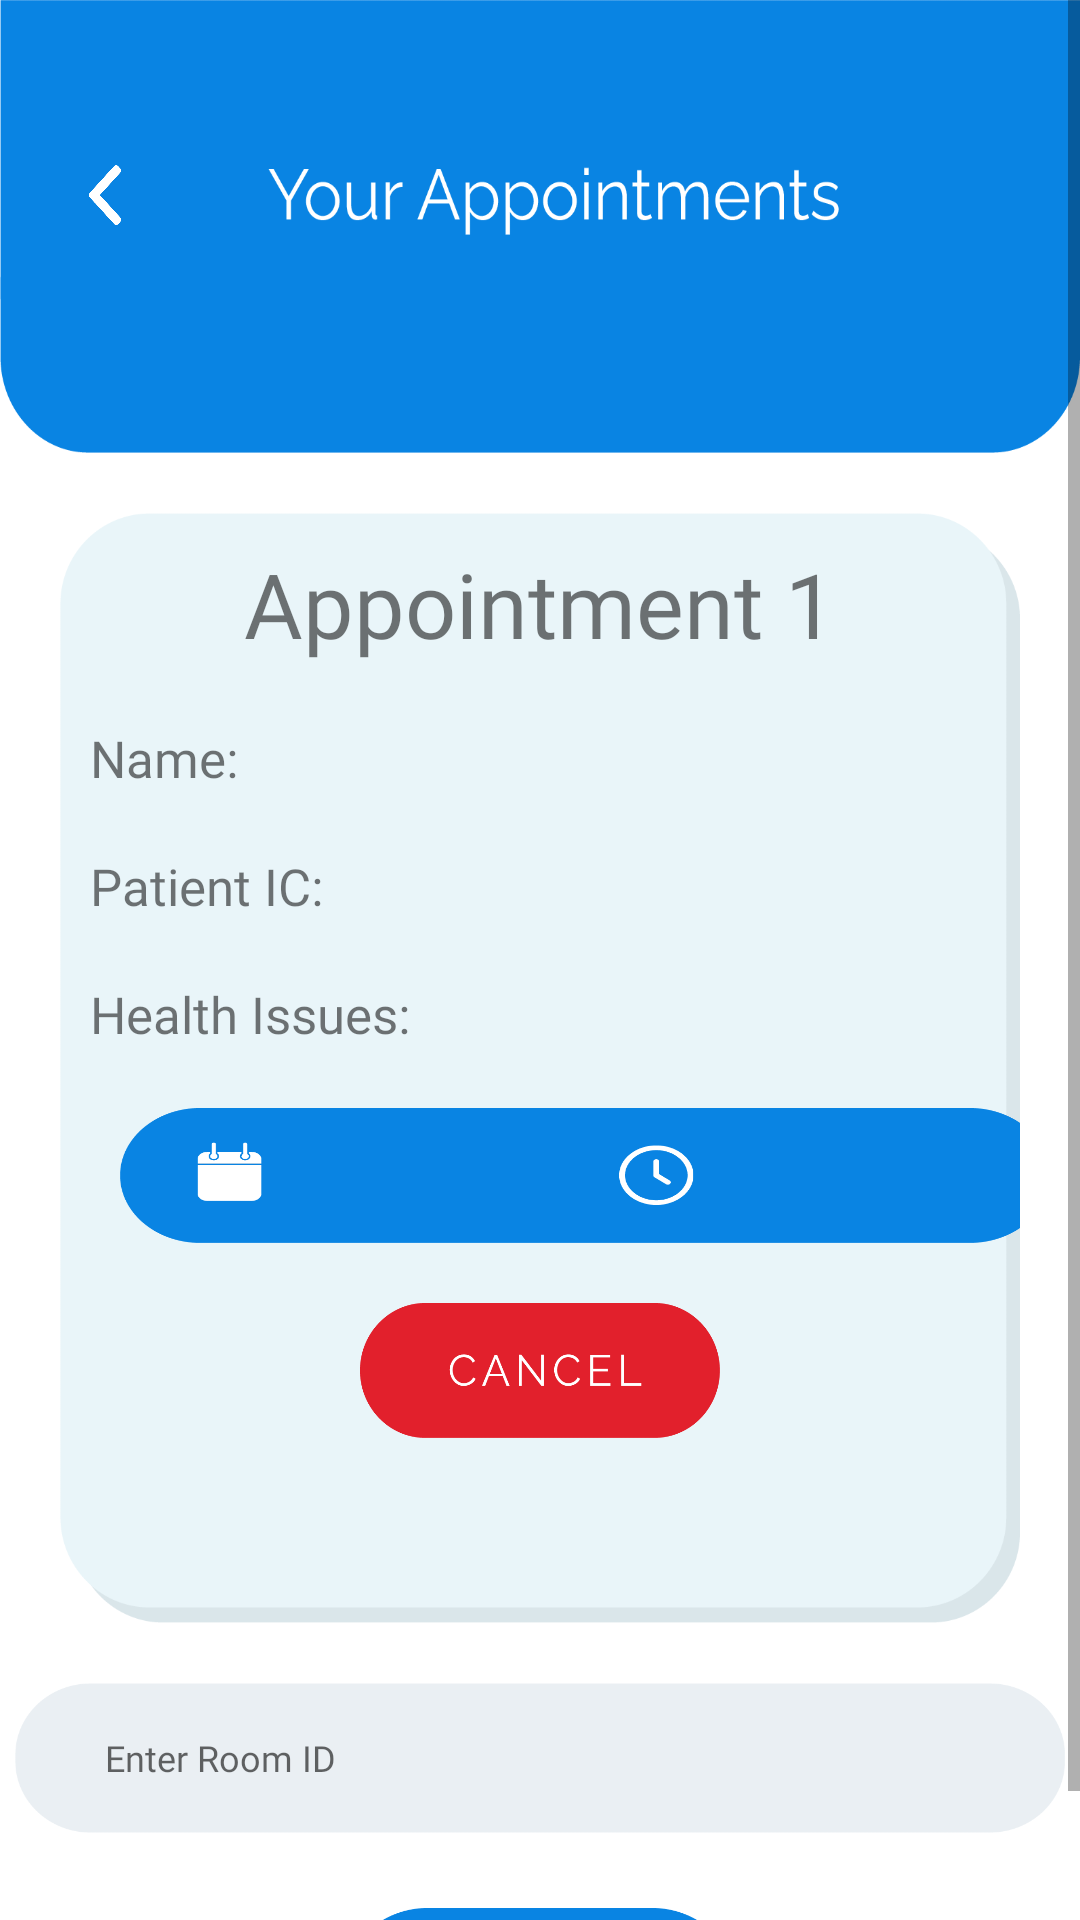

Point at icon controls on the screen. Image size 1080*1920, points as [x,y].
left arrow: [105,195]
